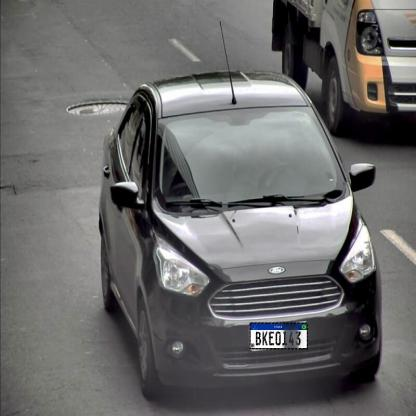PlacaM: (250, 322, 308, 350)
